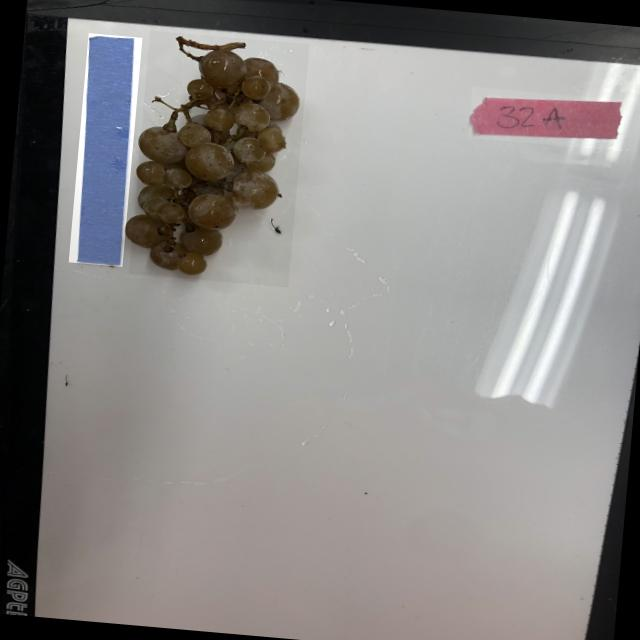grape_cluster: (128, 30, 309, 287)
index: (468, 86, 626, 150)
measure_label: (68, 32, 142, 266)
